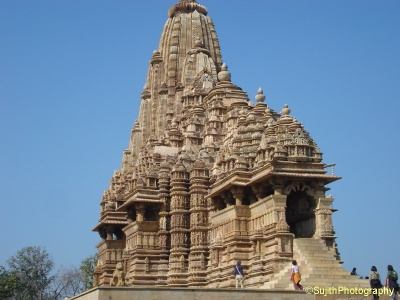amalaka: (162, 1, 215, 19)
gopuram: (148, 12, 242, 126)
mandapa: (247, 164, 345, 226), (197, 170, 268, 218), (114, 185, 181, 234), (81, 210, 134, 248)
